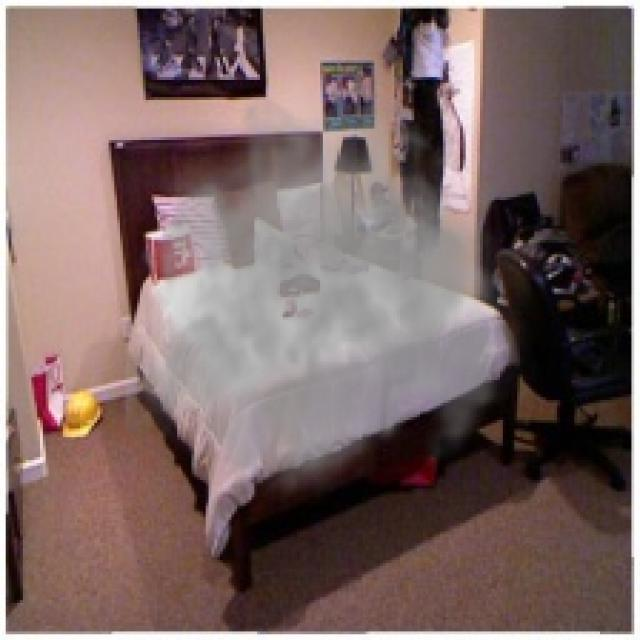Smoke: (125, 88, 540, 506)
